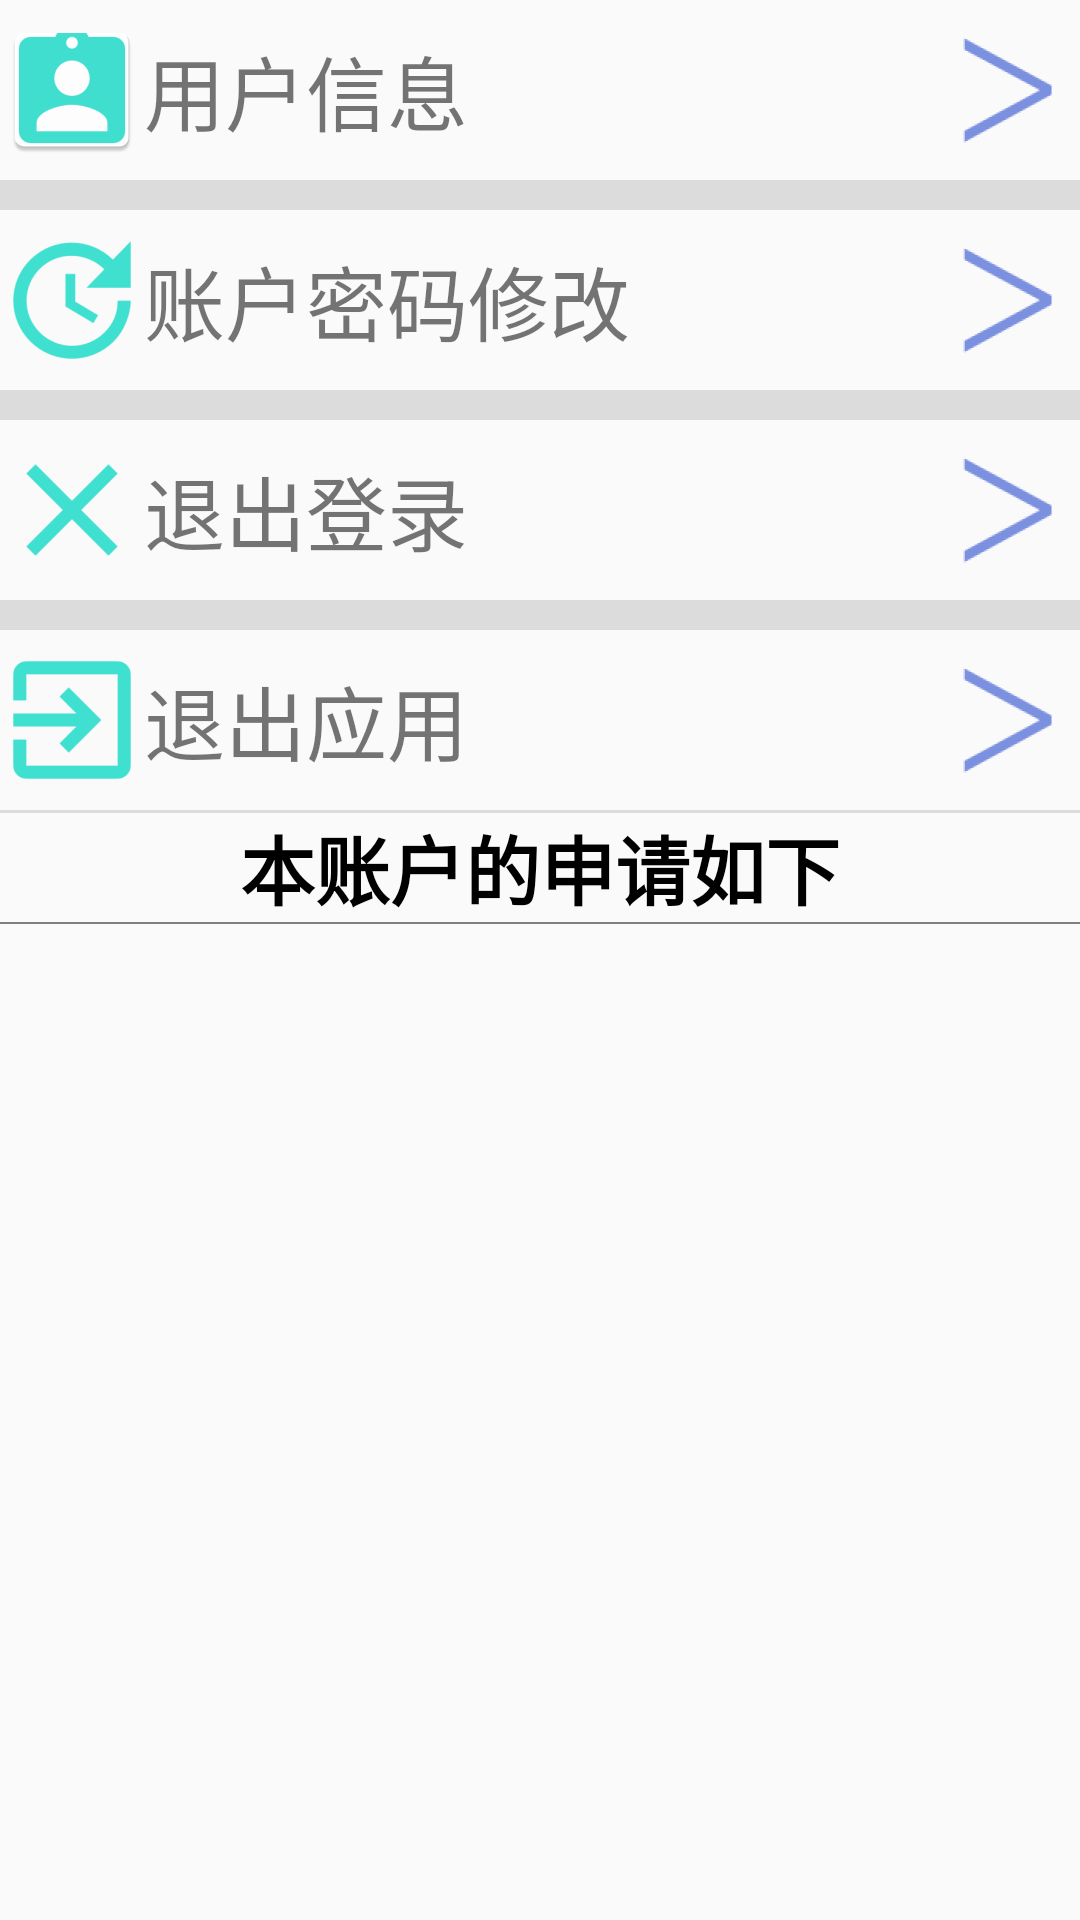

Where icons sit on this 1080 × 1920 app screen, as (x1, y1, x2, y2):
exit app: (13, 661, 131, 779)
exit login: (26, 464, 118, 556)
personal information: (15, 33, 130, 151)
right arrow: (963, 39, 1052, 142), (963, 249, 1052, 352), (963, 459, 1052, 562), (963, 669, 1052, 772)
